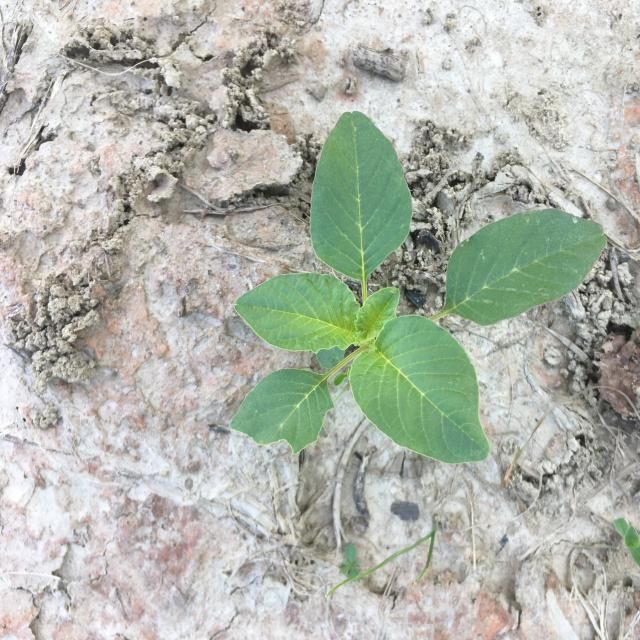Carpetweed: (341, 544, 362, 582)
PalmerAmaranth: (230, 111, 608, 463)
